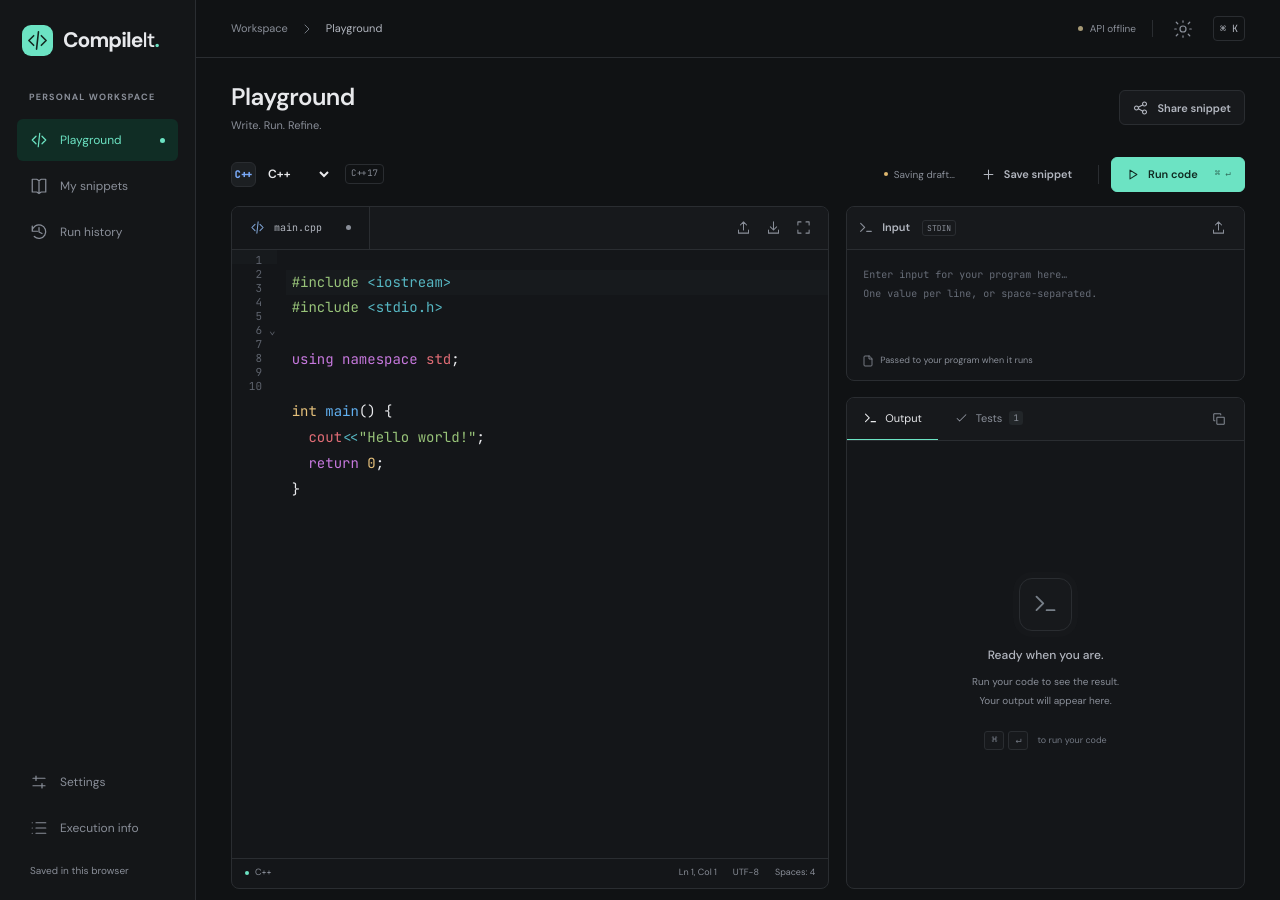
Test: simplified navigation exposes queue explanation without a dashboard
This screenshot has width=1280, height=900.
Click the button with aria-label "How execution works" at x=98, y=828, box [17, 807, 178, 849]
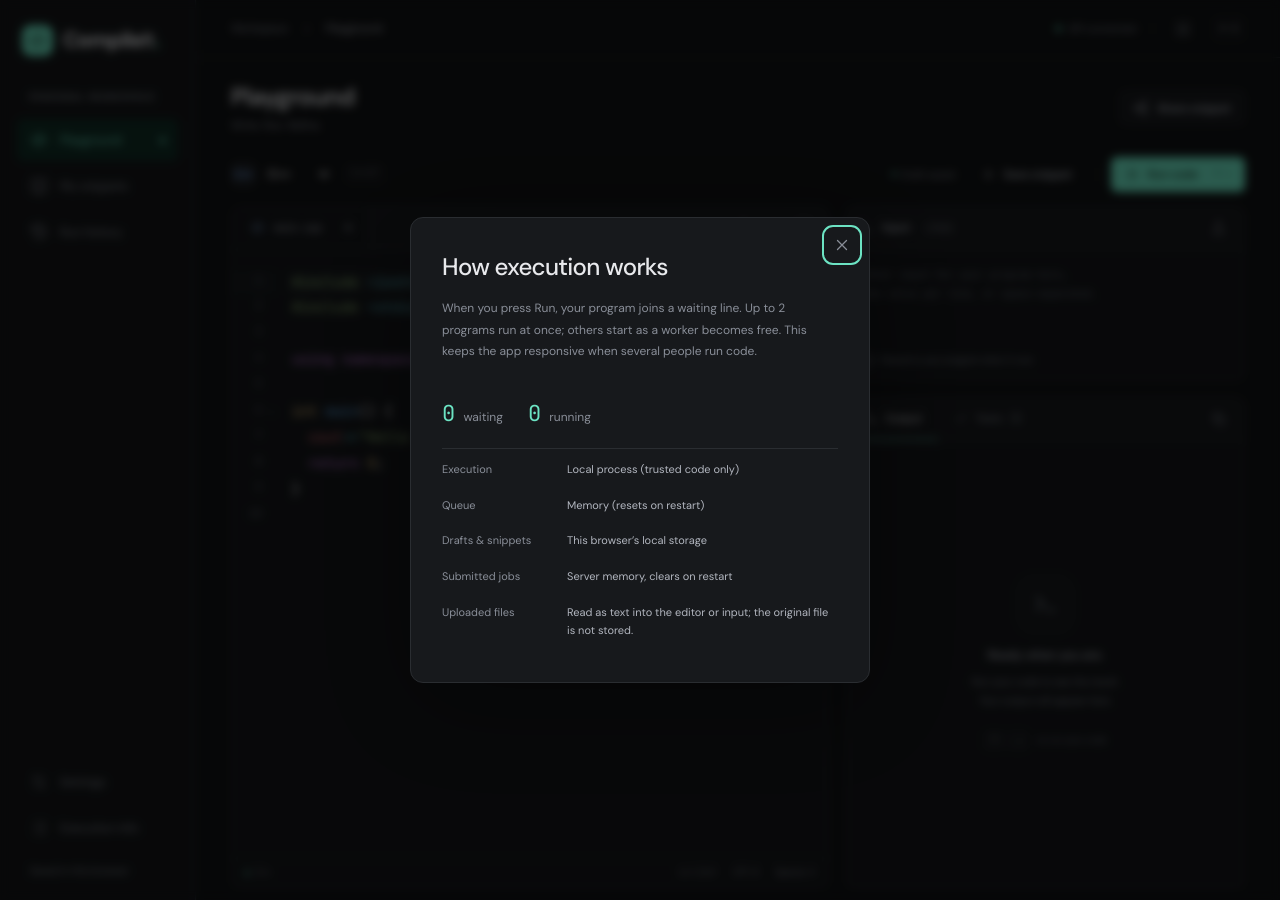
Check: the dialog shows "program joins a waiting line", box [442, 300, 775, 316]
Check: the dialog shows "This browser’s local storage", box [567, 533, 707, 547]
Check: the text "Memory (resets on restart)" is shown, box [567, 498, 704, 512]
